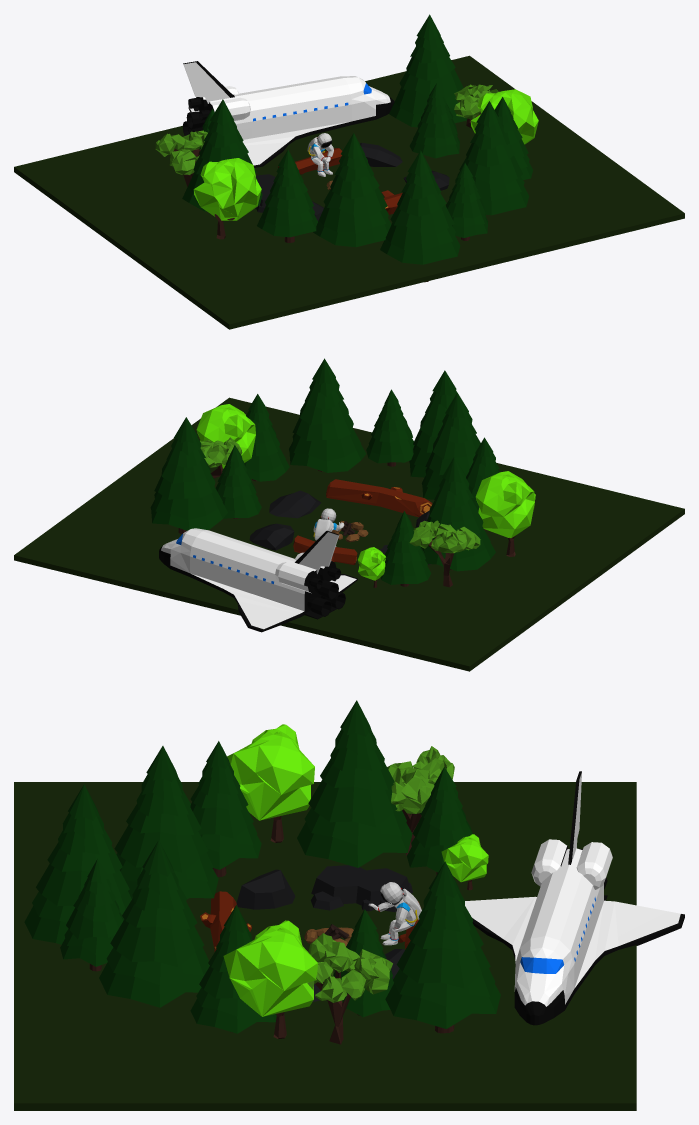
The model's file is sceneobj.obj.
The picture shows the model from 3 angles, top to bottom: view 1: azimuth 30°, elevation 25°; view 2: azimuth 150°, elevation 25°; view 3: azimuth 270°, elevation 25°; orthographic projection. The views are drawn at different scales.
Visible parts, largest first — view 1: Cube, group124037832, Node.011, Node.012, Node.004, Node.006, Node.002, Node.010, Node.003, Node.005, Node.013, Node.009 (+5 smaller); view 2: Cube, group124037832, Node.006, Node.004, Node.003, Node.002, Node.012, Node.013, Node, Node.008, group1305922676, Node.011 (+10 smaller); view 3: Cube, group124037832, Node.006, Node.003, Node.004, Node.012, Node.011, Node.009, Node.002, Node.010, Node.007, Node.008 (+9 smaller).
Part boxes in pixels (x1=…): Cube: x1=14, y1=55, x2=684, y2=329; group124037832: x1=182, y1=61, x2=394, y2=167; Node.011: x1=380, y1=150, x2=460, y2=282; Node.012: x1=313, y1=133, x2=391, y2=247; Node.004: x1=459, y1=101, x2=529, y2=215; Node.006: x1=389, y1=14, x2=466, y2=127; Node.002: x1=193, y1=158, x2=261, y2=239; Node.010: x1=257, y1=149, x2=317, y2=242; Node.003: x1=182, y1=99, x2=262, y2=211; Node.005: x1=409, y1=83, x2=459, y2=158; Node.013: x1=446, y1=163, x2=488, y2=240; Node.009: x1=470, y1=89, x2=538, y2=144; Cube: x1=14, y1=397, x2=684, y2=671; group124037832: x1=159, y1=528, x2=357, y2=632; Node.006: x1=150, y1=417, x2=227, y2=534; Node.004: x1=289, y1=358, x2=366, y2=472; Node.003: x1=421, y1=457, x2=495, y2=571; Node.002: x1=475, y1=471, x2=535, y2=556; Node.012: x1=421, y1=392, x2=480, y2=499; Node.013: x1=366, y1=389, x2=414, y2=466; Node: x1=380, y1=511, x2=431, y2=586; Node.008: x1=244, y1=394, x2=289, y2=481; group1305922676: x1=326, y1=479, x2=432, y2=517; Node.011: x1=409, y1=370, x2=457, y2=477; Cube: x1=14, y1=782, x2=636, y2=1110; group124037832: x1=465, y1=771, x2=684, y2=1025; Node.006: x1=385, y1=861, x2=500, y2=1033; Node.003: x1=297, y1=700, x2=412, y2=867; Node.004: x1=99, y1=840, x2=209, y2=1007; Node.012: x1=114, y1=746, x2=218, y2=899; Node.011: x1=24, y1=784, x2=131, y2=944; Node.009: x1=223, y1=920, x2=317, y2=1038; Node.002: x1=227, y1=724, x2=314, y2=842; Node.010: x1=190, y1=741, x2=261, y2=876; Node.007: x1=307, y1=933, x2=392, y2=1044; Node.008: x1=190, y1=905, x2=276, y2=1033.
Size of the model in its own units: 12.39 by 3.93 by 10.93.
